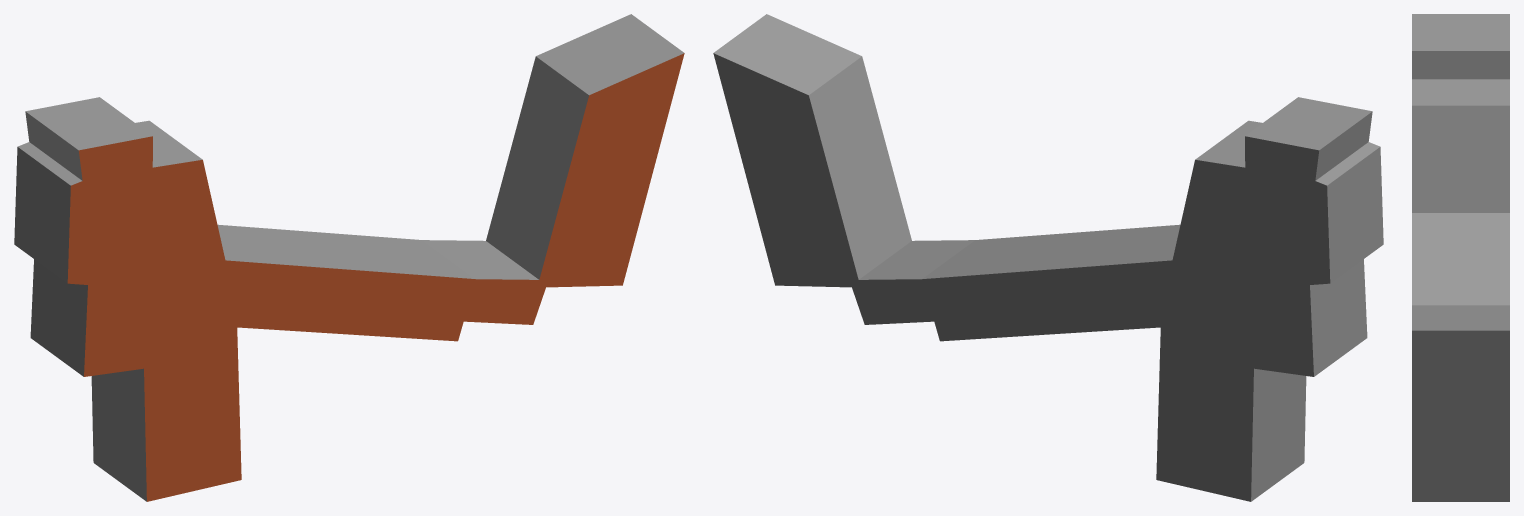
File: construction_0507_assumed_A_Casa_h6m.obj
3 views of the same model, side by side, from view 1: azimuth 30°, elevation 25°; view 2: azimuth 150°, elevation 25°; view 3: azimuth 270°, elevation 25° (orthographic). The views are drawn at different scales.
Visible parts, largest first — view 1: construction_0507_assumed_A_Casa; view 2: construction_0507_assumed_A_Casa; view 3: construction_0507_assumed_A_Casa.
Boxes of the visible parts, left/top/right/bottom form: construction_0507_assumed_A_Casa: left=14, top=14, right=684, bottom=501; construction_0507_assumed_A_Casa: left=713, top=14, right=1383, bottom=501; construction_0507_assumed_A_Casa: left=1412, top=14, right=1509, bottom=501.
Size of the model in its own units: 40.02 by 22.89 by 6.
